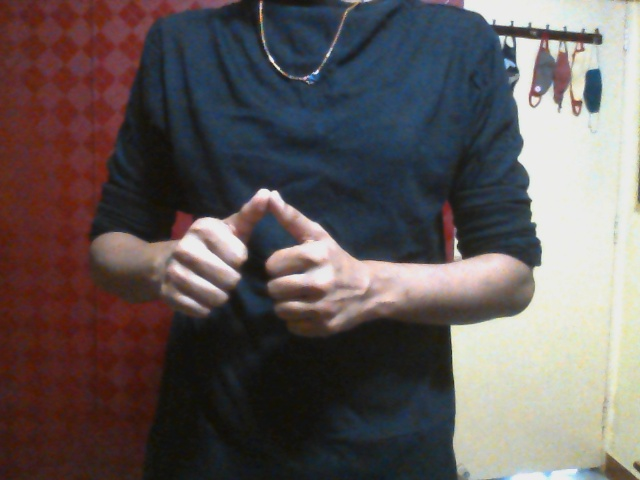A: (156, 187, 363, 338)
